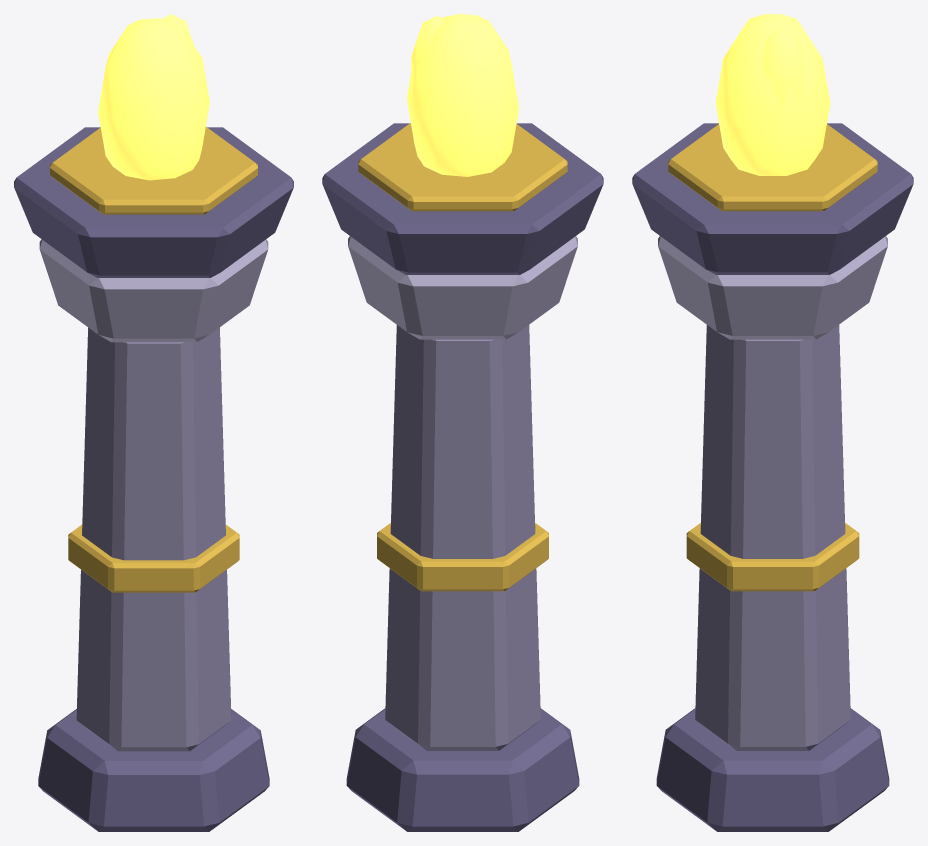
File: coluna-braseiro.glb
The picture shows the model from 3 angles, left to right: view 1: azimuth 30°, elevation 25°; view 2: azimuth 150°, elevation 25°; view 3: azimuth 270°, elevation 25°; orthographic projection.
Visible parts, largest first — view 1: ColunaBraseiro; view 2: ColunaBraseiro; view 3: ColunaBraseiro.
Boxes of the visible parts, box(x1,y1,x2,y2) form: ColunaBraseiro: box(14, 14, 293, 831); ColunaBraseiro: box(322, 14, 603, 831); ColunaBraseiro: box(632, 14, 913, 831).
Size of the model in its own units: 0.6112 by 2.09 by 0.6854.
